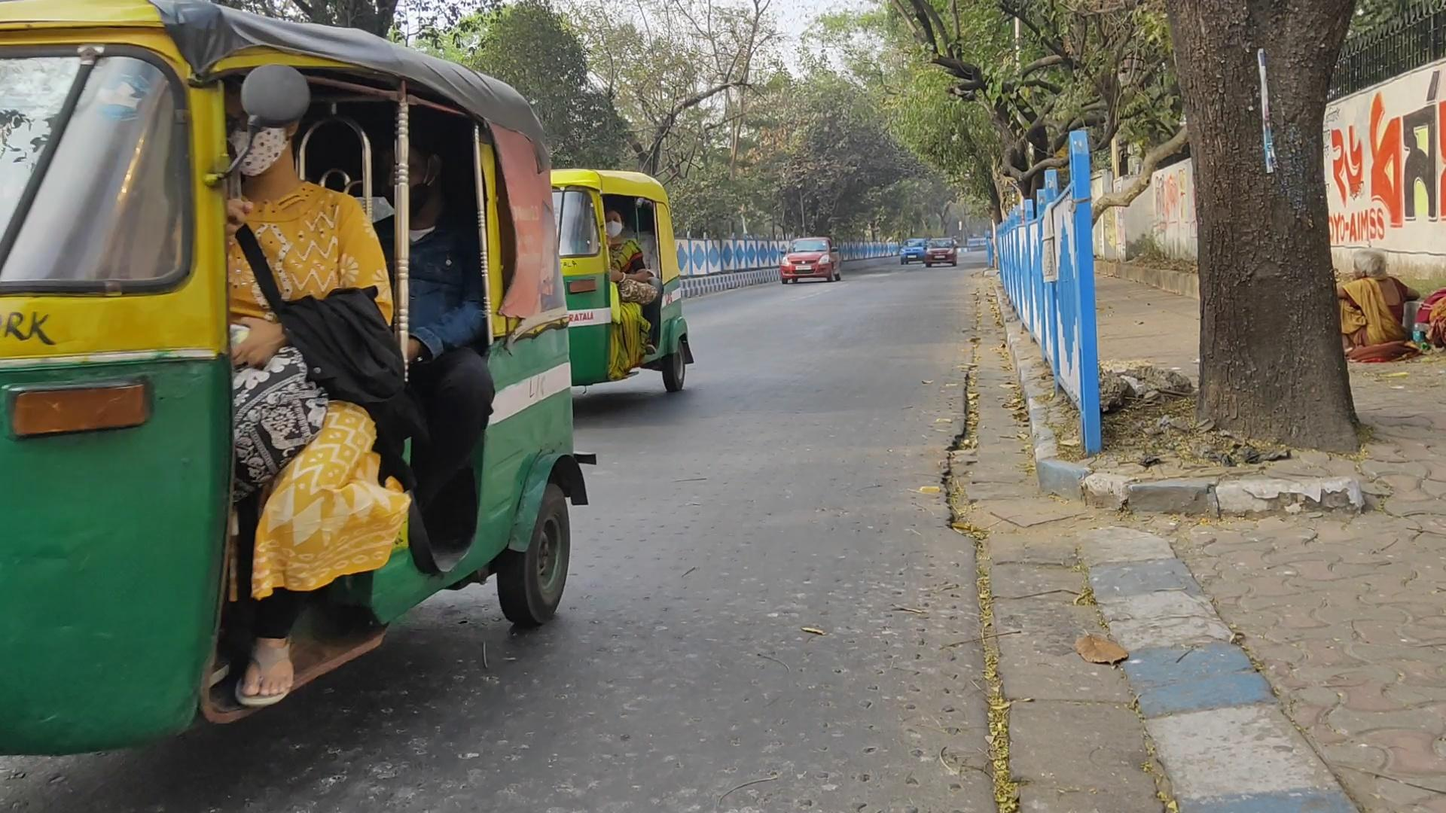Auto: (2, 2, 596, 766), (551, 165, 694, 403)
car: (779, 233, 842, 287), (924, 236, 959, 267), (899, 237, 928, 266)
